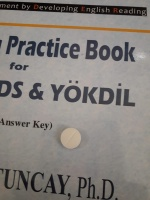Arveles: (59, 127, 82, 150)
